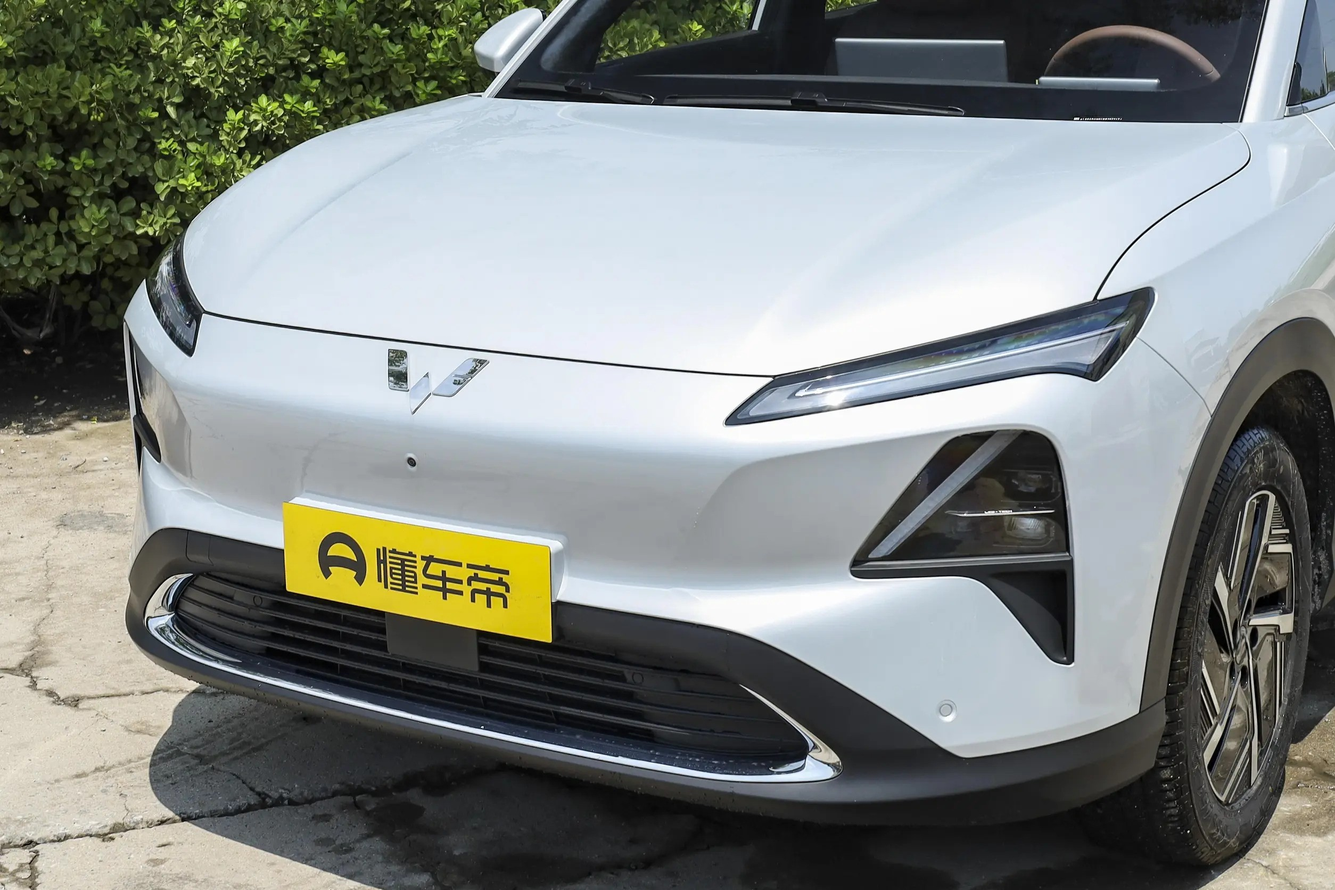SGMW: (388, 349, 489, 414)
